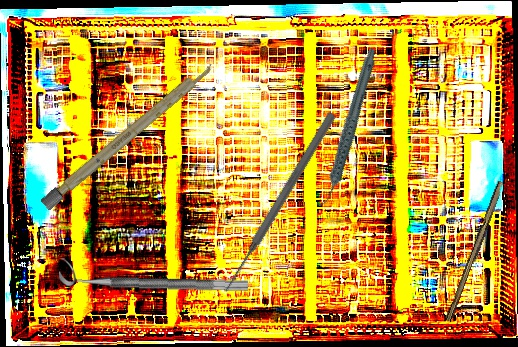Fixation Ring: (58, 257, 249, 293)
Handpiece: (287, 46, 407, 209)
Pusher: (219, 110, 338, 297)
Scalpel Handle: (40, 59, 217, 211), (444, 179, 507, 324)
